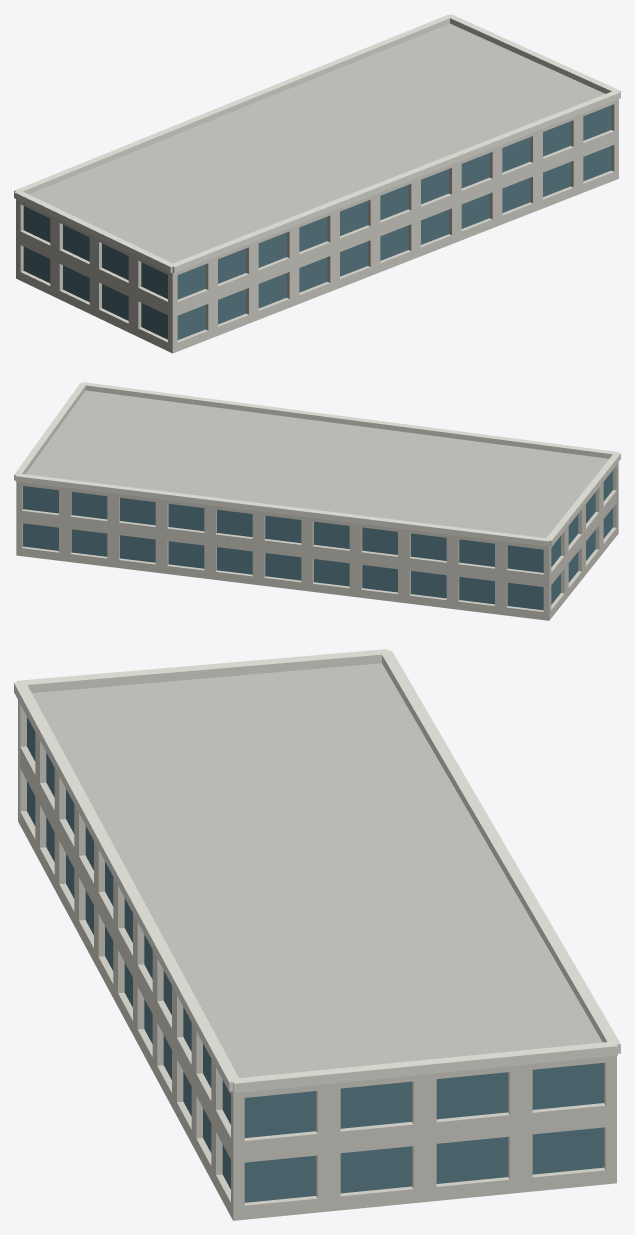
The model's file is sb_732494279.far.glb.
3 renders of one model, top to bottom at view 1: azimuth 30°, elevation 25°; view 2: azimuth 150°, elevation 25°; view 3: azimuth 270°, elevation 25°, orthographic. The views are drawn at different scales.
Parts seen in each view (by area): view 1: roof, wall, glass, trim; view 2: roof, wall, glass, trim; view 3: roof, wall, glass, trim.
Part boxes in pixels (x1,y1,x2,y2): roof: [29, 23, 604, 263]; wall: [16, 99, 618, 353]; glass: [23, 105, 611, 339]; trim: [14, 14, 620, 272]; roof: [25, 390, 608, 537]; wall: [16, 462, 618, 620]; glass: [23, 470, 612, 610]; trim: [14, 382, 620, 546]; roof: [32, 663, 602, 1077]; wall: [18, 700, 616, 1220]; glass: [27, 717, 603, 1202]; trim: [14, 649, 620, 1093].
Size of the model in its own units: 43.24 by 6.44 by 25.52.
